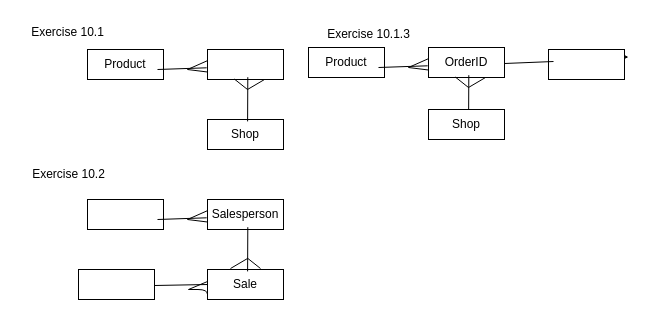
Some shapes in this 654 by 318 pixel diagram are drawn without their labels. The shapes that lost their labels are listed below. From the top down, each one's centre as x and y in pixels, then its label:
pixel 245 64: Order
pixel 586 64: price
pixel 125 214: Office
pixel 116 284: Customer
